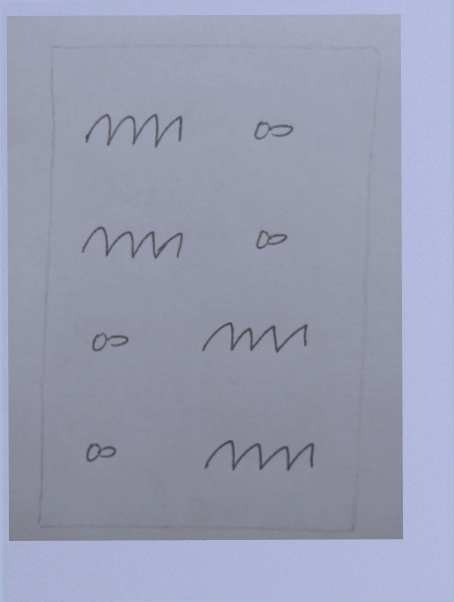switch: (78, 319, 140, 363), (244, 108, 304, 152), (247, 221, 303, 259), (76, 434, 126, 472)
text: (192, 425, 323, 488), (77, 214, 191, 269), (190, 314, 314, 361), (80, 105, 191, 154)
